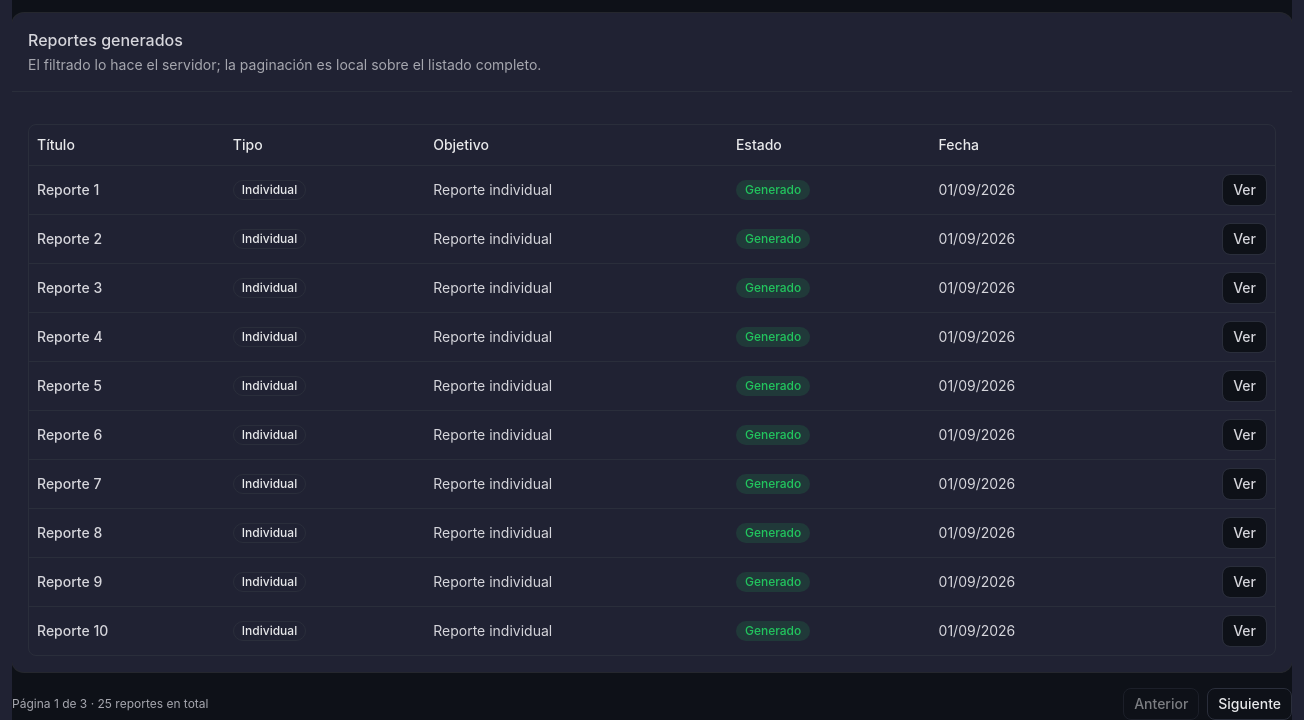
Test case: ReportsLibraryPage — filtros, lista y paginación (C5, C9, C11) › cambiar un filtro vuelve a la primera página
(page scrolled)
Click the button with test id "reports-pagination-next". click: (1250, 704)
box: [1207,688,1292,719]
(page scrolled)
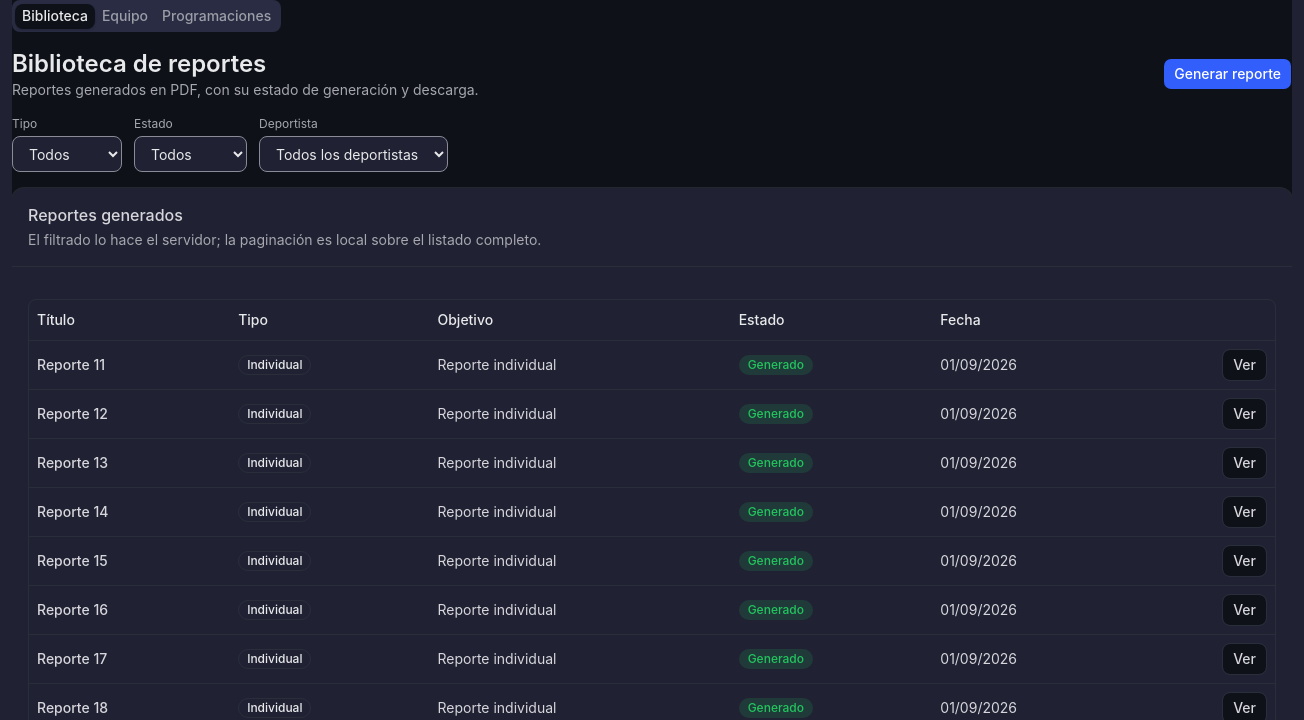
expect the row with test id "report-row-11" is shown: met, box [29,340,1275,389]
Select "Generado" in the dropdown with test id "reports-filter-status". click: (190, 154)
box: [134,136,247,172]
(page scrolled)
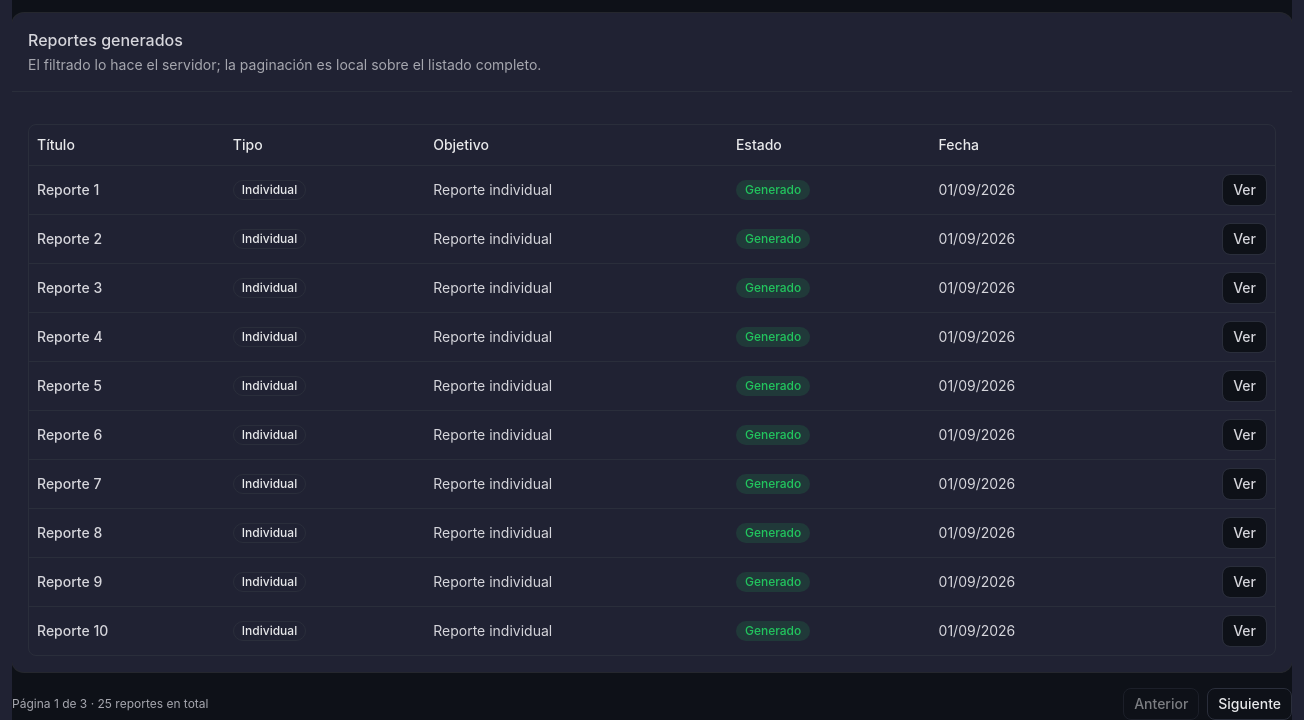
expect the text "Página 1 de 3 · 25 reportes en total" is shown: met, box [12,696,208,712]
